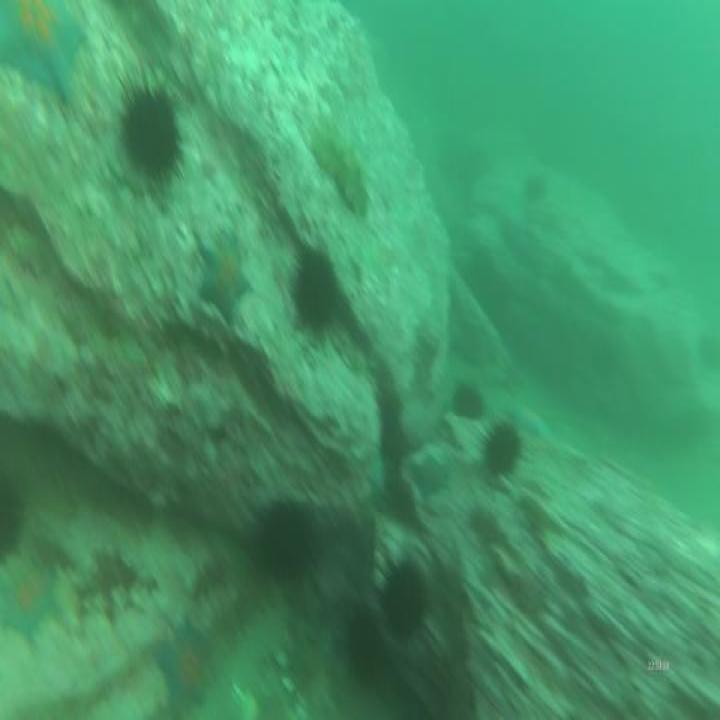echinus: (114, 59, 187, 201), (256, 494, 321, 588), (375, 548, 433, 652), (287, 242, 343, 338), (343, 599, 388, 693), (477, 416, 526, 485), (0, 464, 27, 560), (448, 377, 489, 425), (523, 169, 549, 204)
holothurian: (312, 121, 371, 222)
starfish: (0, 0, 90, 114), (150, 608, 215, 715), (191, 228, 254, 332), (0, 560, 68, 647)
